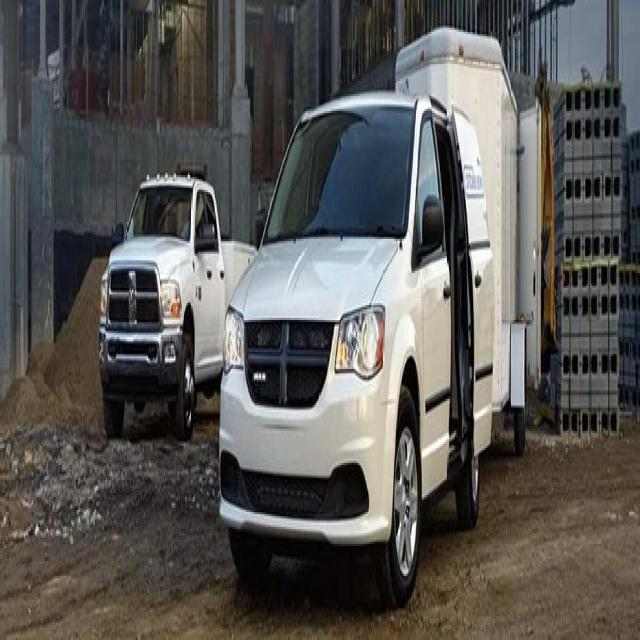Micro-Bus: (188, 70, 521, 615)
Pick-up-van: (50, 155, 281, 473)
